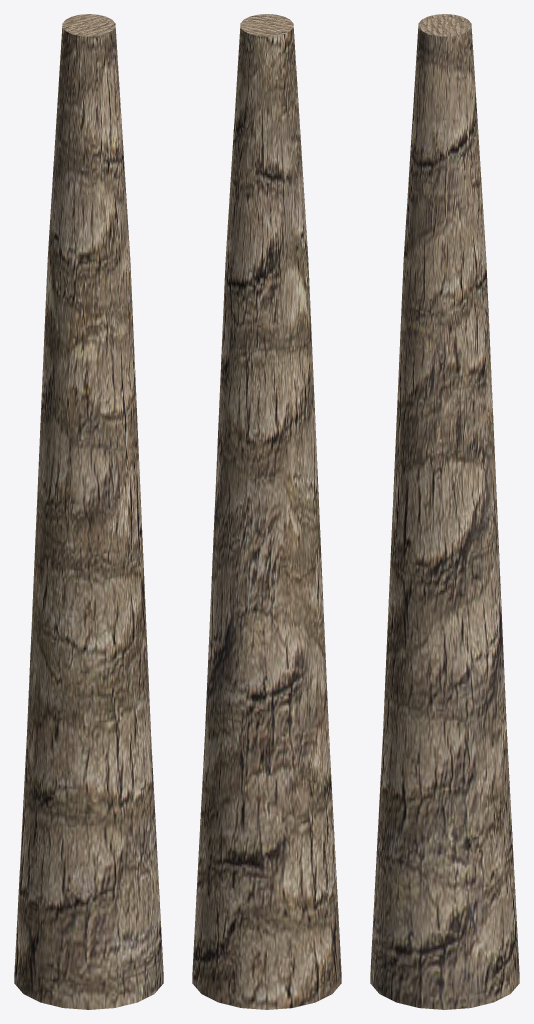
The model's file is palm2.FBX.
3 renders of one model, left to right at view 1: azimuth 30°, elevation 25°; view 2: azimuth 150°, elevation 25°; view 3: azimuth 270°, elevation 25°, orthographic.
Visible parts, largest first — view 1: palm2; view 2: palm2; view 3: palm2.
Part boxes in pixels (x1,y1,x2,y2): palm2: [14, 14, 163, 1009]; palm2: [192, 14, 341, 1009]; palm2: [370, 14, 519, 1009].
Size of the model in its own units: 11.52 by 80 by 11.34.
